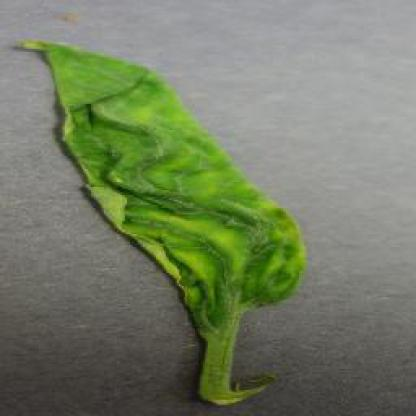bad leaf: (6, 37, 314, 415)
